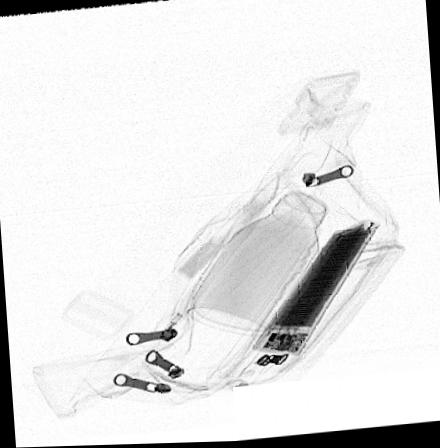Powerbank: (249, 220, 379, 356)
